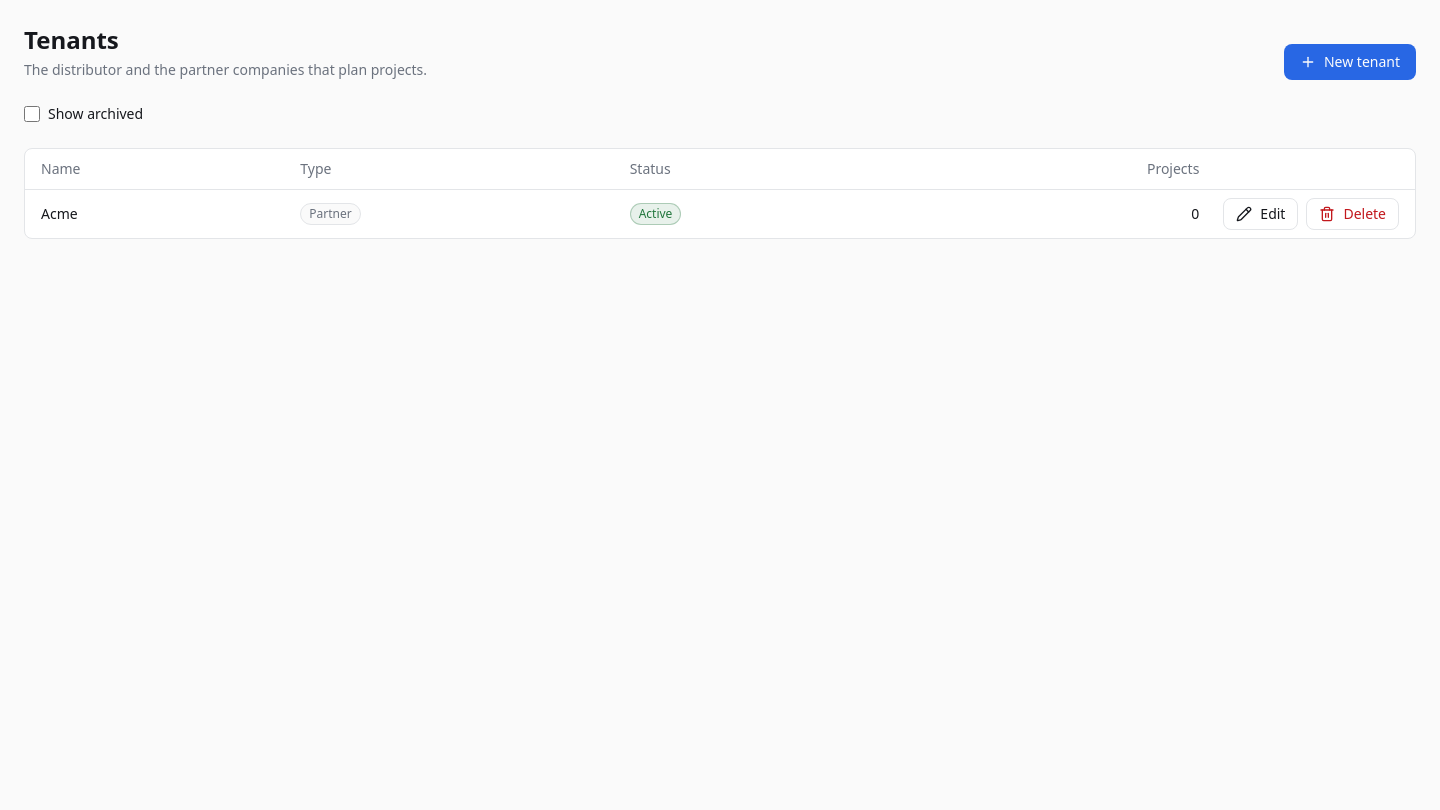
it: TenantsPage › deactivates a partner
Click the button "Edit".
click(1261, 214)  # box x1=1223 y1=198 x2=1298 y2=230
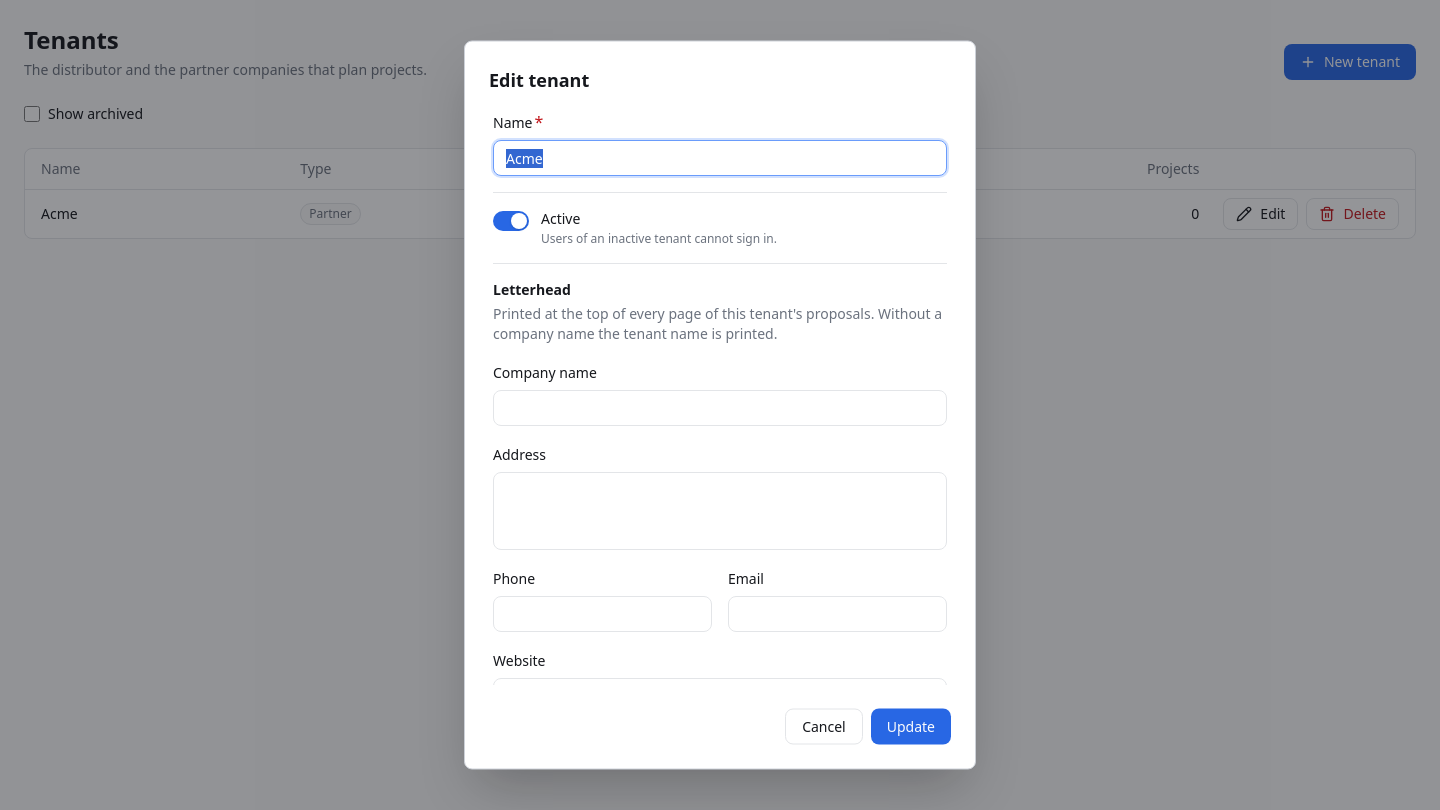
Click the switch labelled "Active".
click(511, 220)  # box x1=493 y1=210 x2=529 y2=230
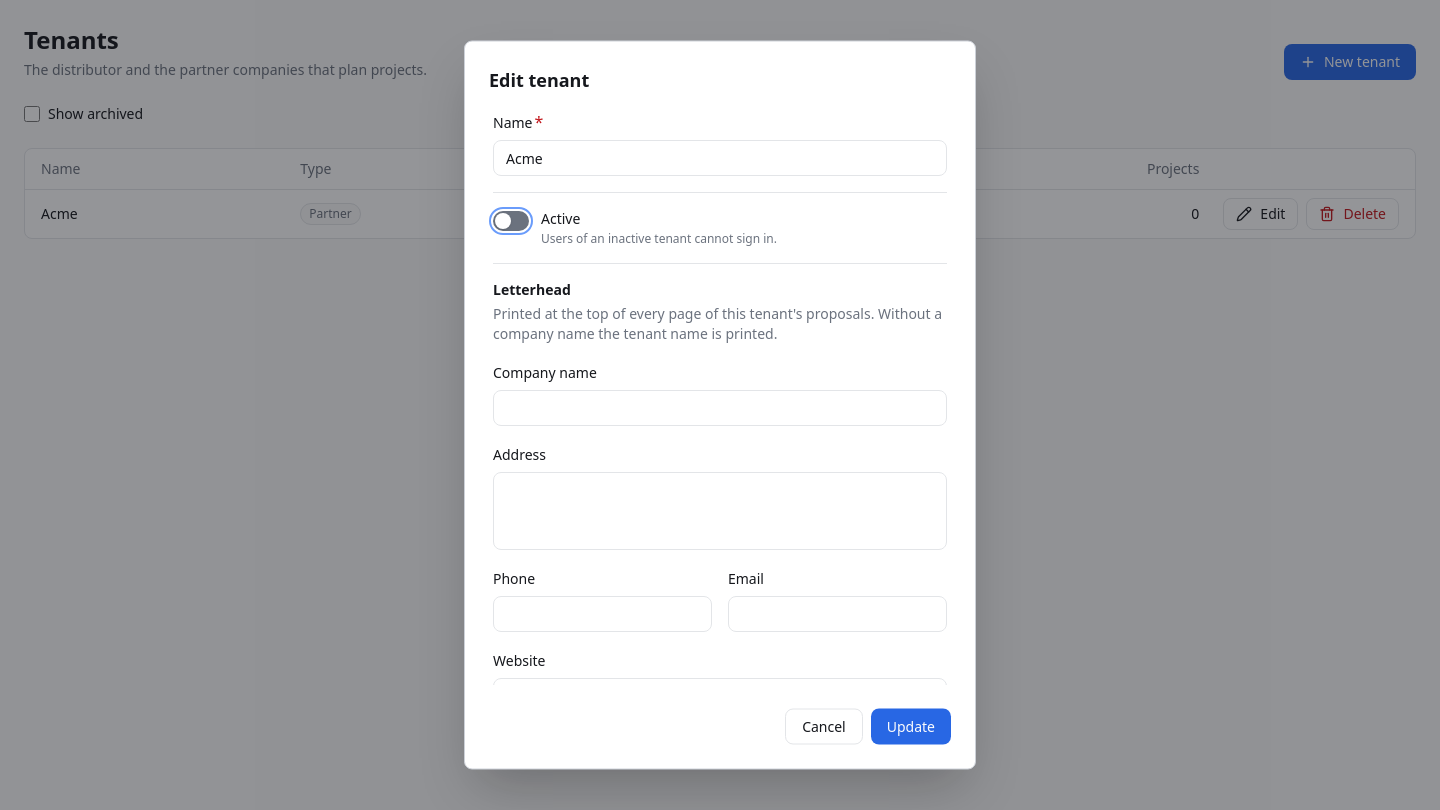
Click the button "Update".
click(911, 726)  # box x1=871 y1=708 x2=951 y2=744
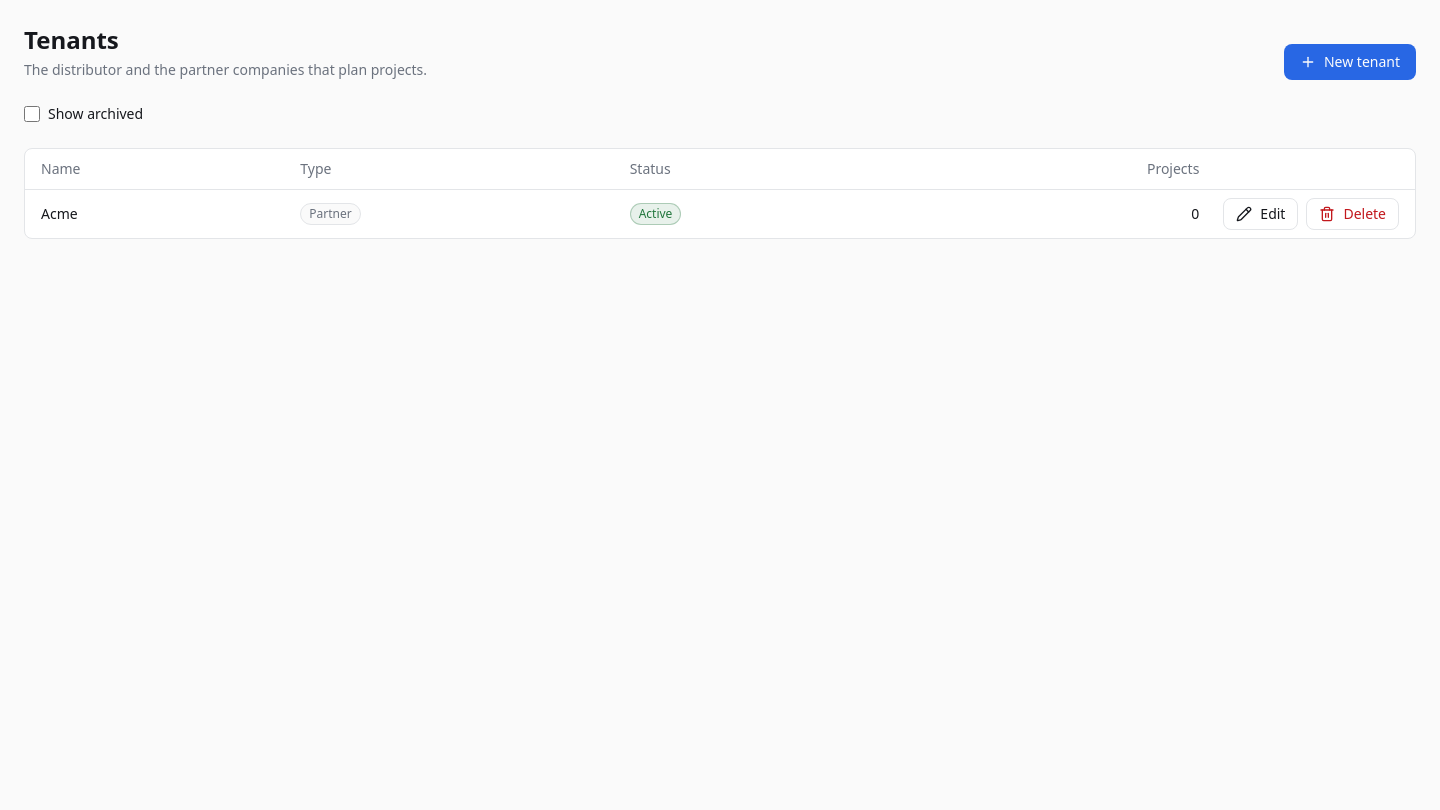
Expected: the dialog is gone
